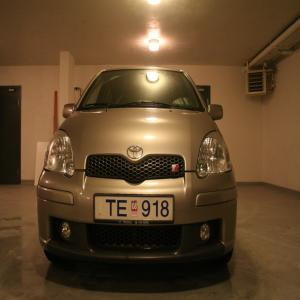Vehicle-registration-plate: (95, 194, 176, 226)
